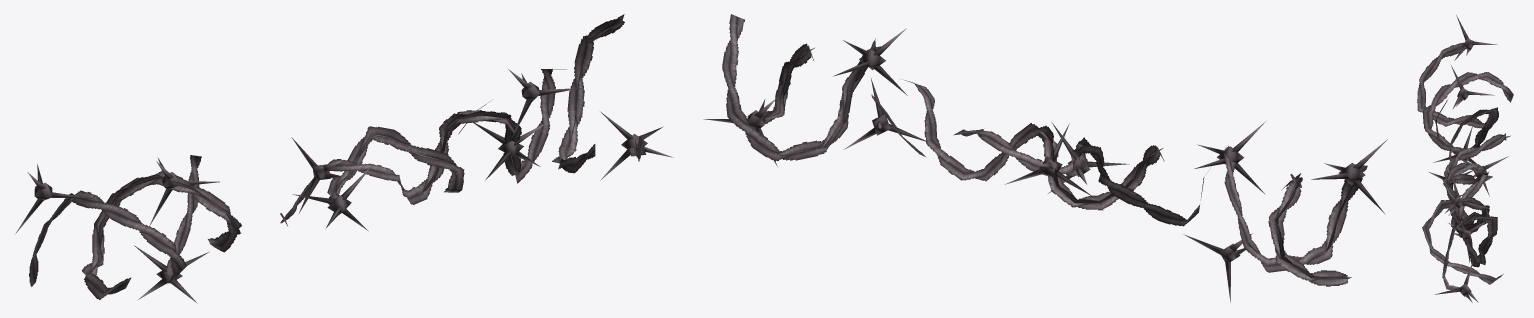
Rendered from barbwire_x5.glb.
3 views of the same model, side by side, from view 1: azimuth 30°, elevation 25°; view 2: azimuth 150°, elevation 25°; view 3: azimuth 270°, elevation 25° (orthographic). The views are drawn at different scales.
Visible parts, largest first — view 1: battlefield.barbwire_x5-Mesh[0], battlefield.barbwire_x5-Mesh[1]; view 2: battlefield.barbwire_x5-Mesh[0], battlefield.barbwire_x5-Mesh[1]; view 3: battlefield.barbwire_x5-Mesh[0], battlefield.barbwire_x5-Mesh[1].
Part boxes in pixels (bbox=[...]): battlefield.barbwire_x5-Mesh[0]: bbox=[29, 14, 645, 299]; battlefield.barbwire_x5-Mesh[1]: bbox=[15, 69, 672, 303]; battlefield.barbwire_x5-Mesh[0]: bbox=[722, 14, 1367, 286]; battlefield.barbwire_x5-Mesh[1]: bbox=[703, 28, 1387, 302]; battlefield.barbwire_x5-Mesh[0]: bbox=[1417, 42, 1513, 289]; battlefield.barbwire_x5-Mesh[1]: bbox=[1429, 15, 1508, 302].
Size of the model in its own units: 5.59 by 1.44 by 1.16.
Materials: 1 (1 with a texture image).
